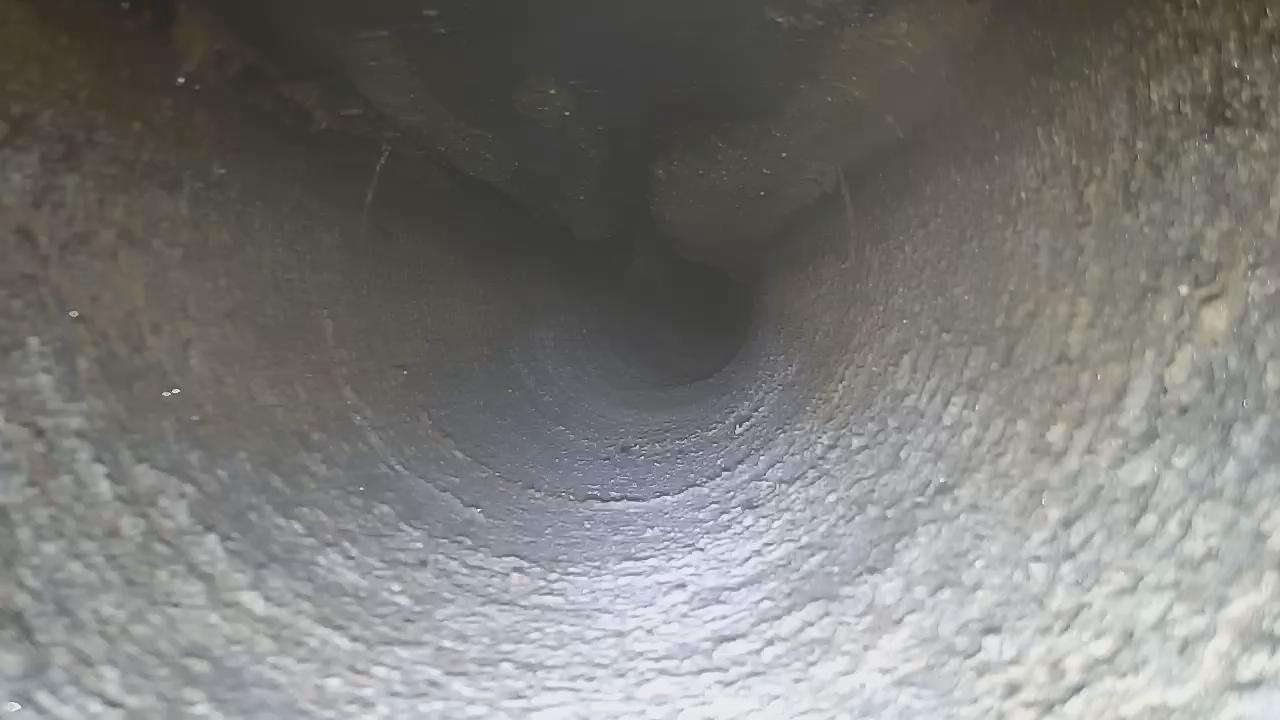JG: (653, 1, 982, 267), (344, 26, 518, 181), (515, 77, 599, 224)
